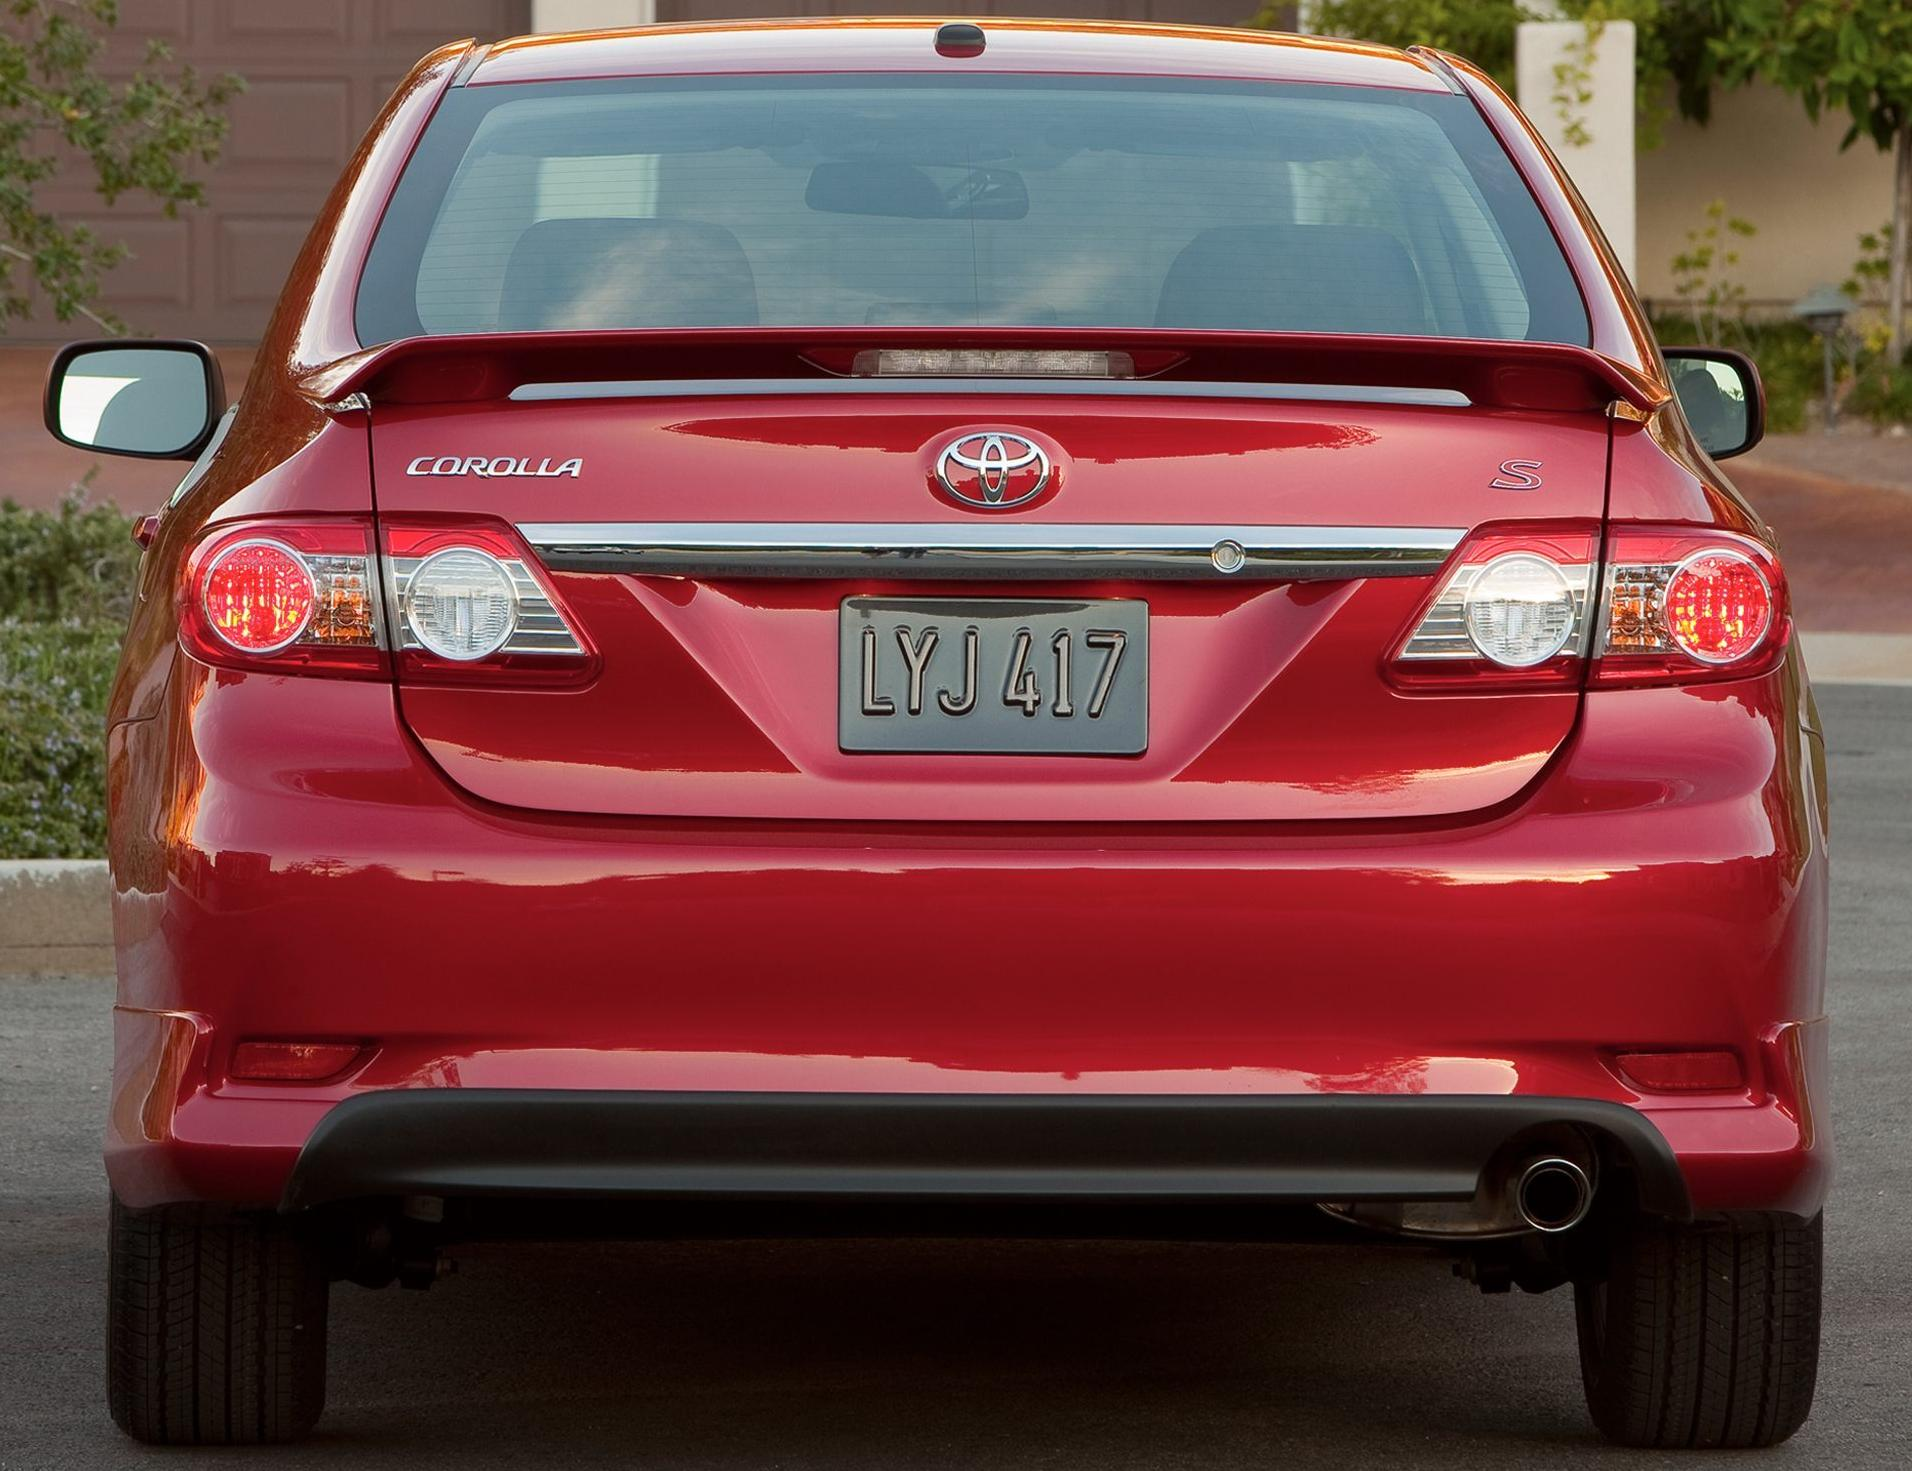back_view: (170, 450, 1809, 1218)
backlight: (156, 490, 621, 697)
